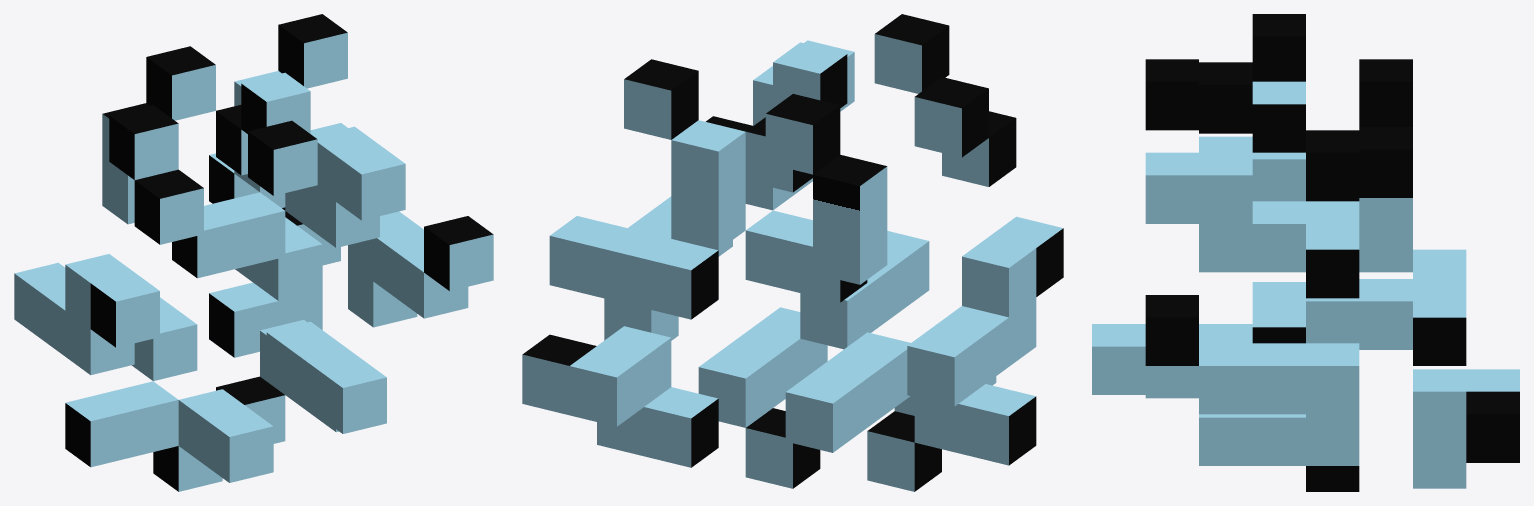
The model's file is ice.dae.
3 renders of one model, left to right at view 1: azimuth 30°, elevation 25°; view 2: azimuth 150°, elevation 25°; view 3: azimuth 270°, elevation 25°, orthographic. The views are drawn at different scales.
Parts seen in each view (by area): view 1: Ice; view 2: Ice; view 3: Ice.
Part boxes in pixels (x1,y1,x2,y2): Ice: (14,14,493,491); Ice: (522,14,1063,491); Ice: (1092,14,1519,491).
Bounding box in the file's own units: 8 × 8 × 8.
1 material, 1 textured.
